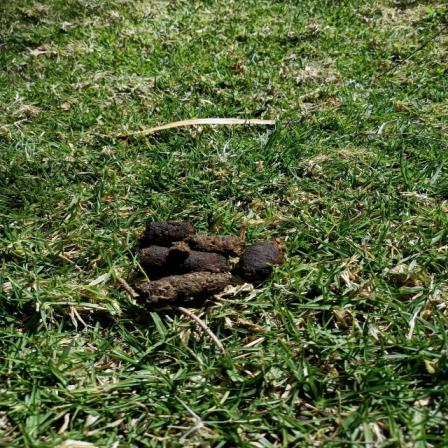dog-poop: (136, 218, 285, 309)
